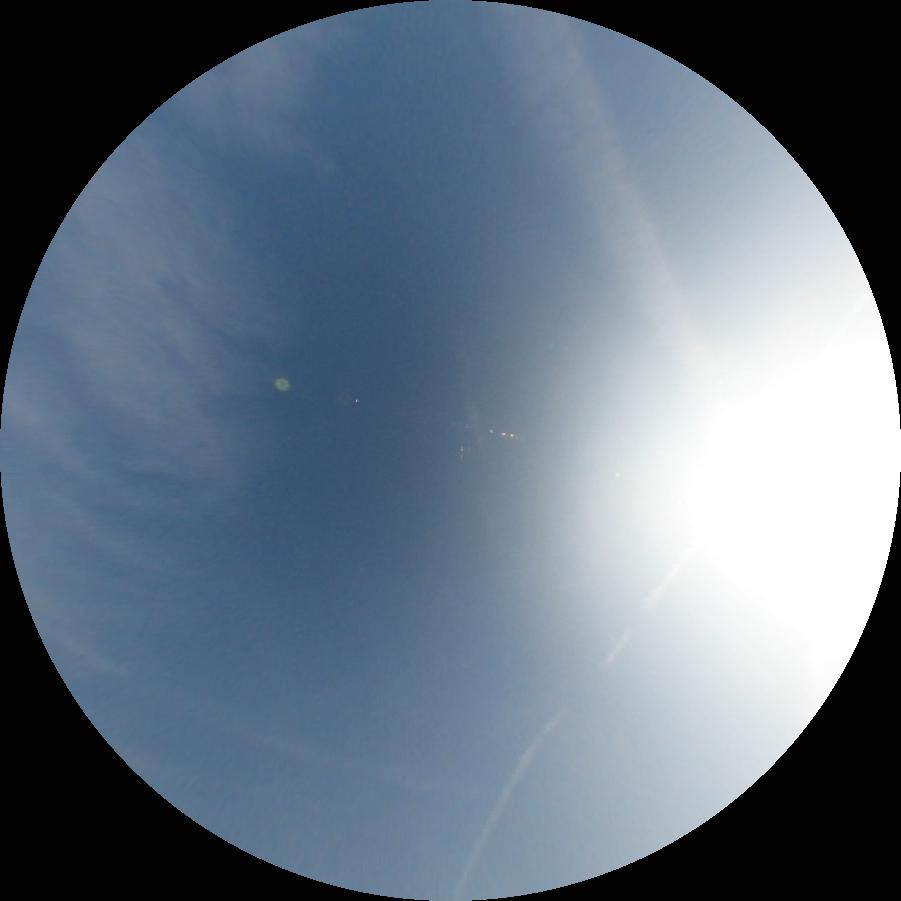contrail old: (450, 543, 700, 901)
contrail veryold: (478, 8, 712, 367), (49, 644, 466, 801)
sun: (688, 331, 899, 610)
